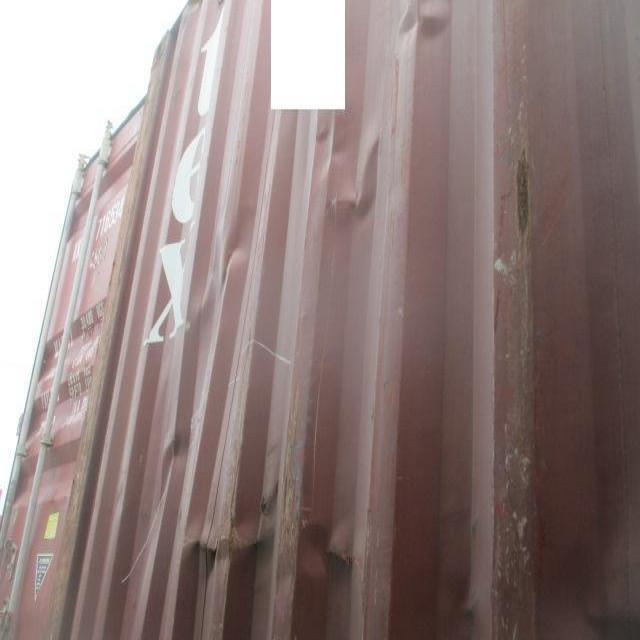dent: (171, 463, 375, 640), (289, 112, 417, 230), (183, 193, 275, 345), (134, 416, 206, 514)
